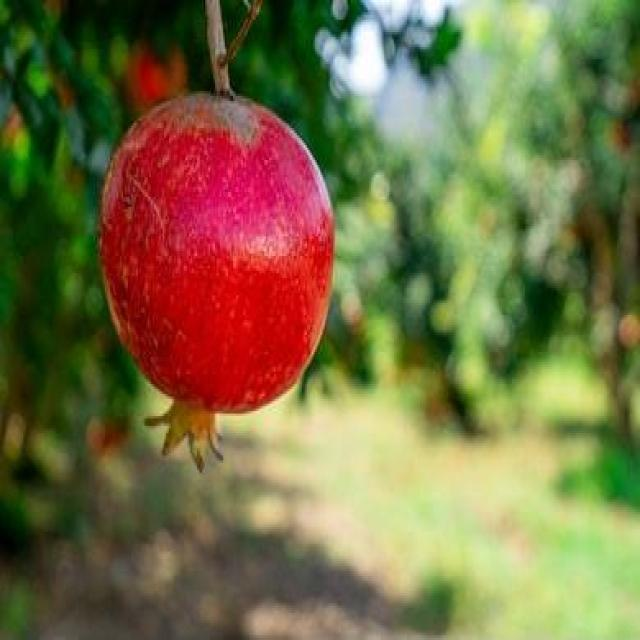Pomegranate: (98, 89, 337, 473)
